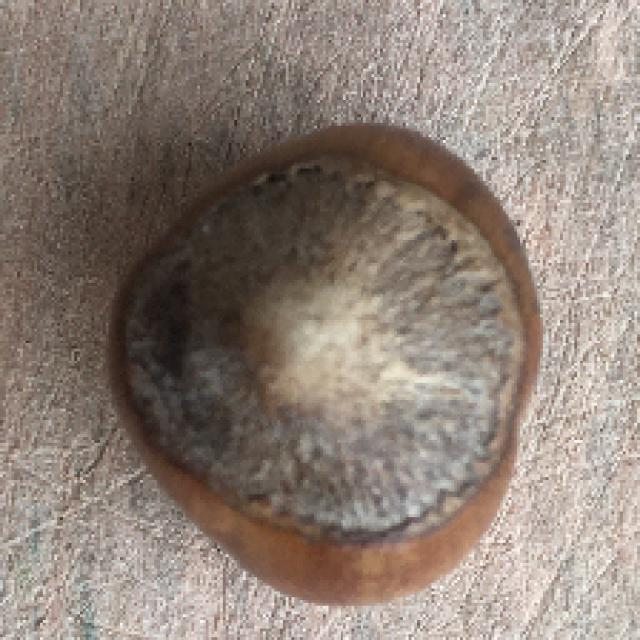damagedHazelnut: (97, 89, 555, 612)
